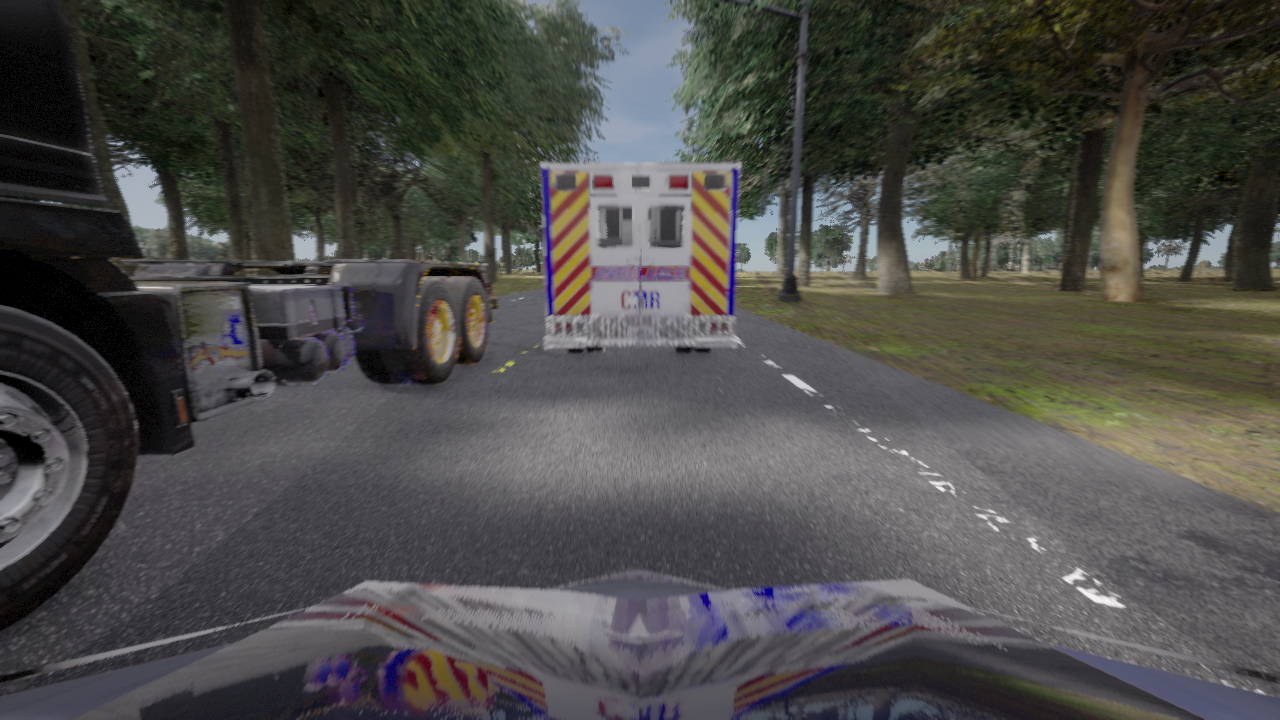cyclist: (0, 569, 1279, 719), (541, 163, 739, 353)
